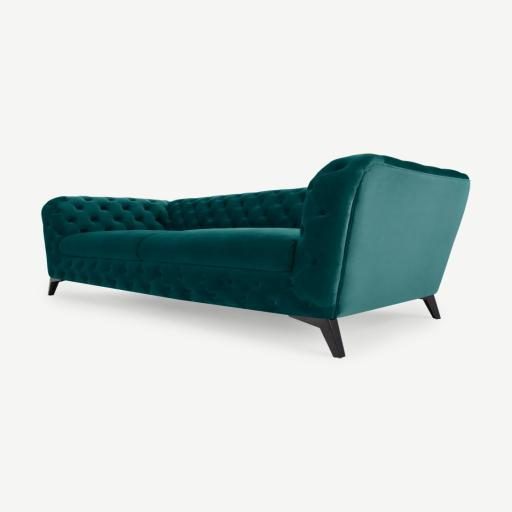back_cushion: (166, 188, 305, 230)
base: (51, 256, 335, 317)
left_arm: (281, 154, 470, 318)
legs: (289, 315, 344, 358), (422, 295, 439, 318), (48, 278, 61, 295)
right_arm: (42, 197, 168, 277)
seat_cushion: (59, 228, 299, 271)
two-seater: (0, 0, 511, 512)
